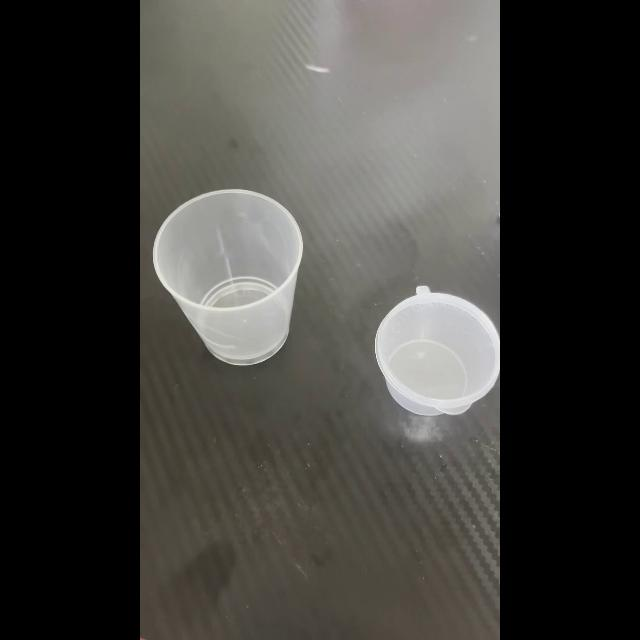clean: (164, 184, 296, 368), (378, 296, 487, 419)
